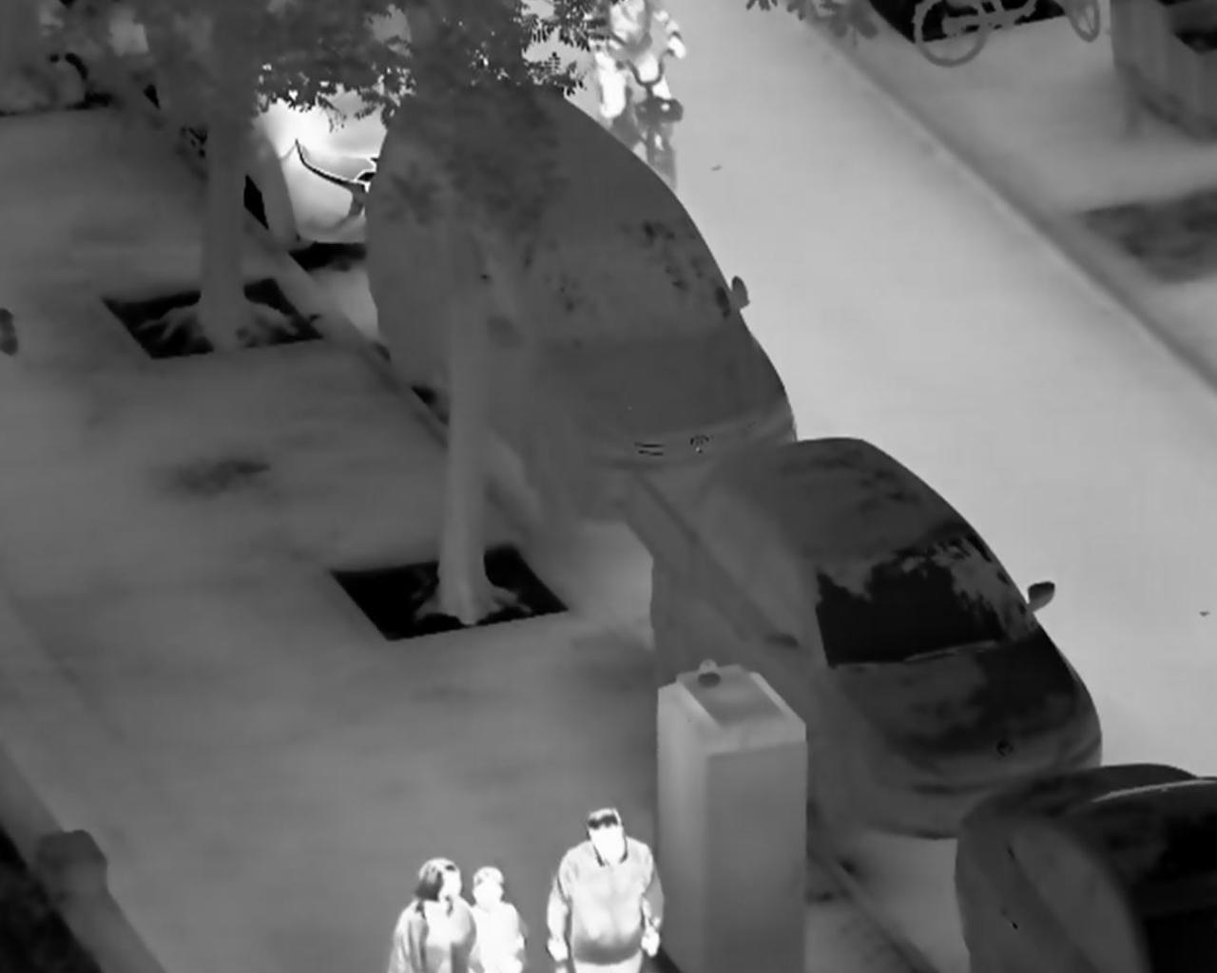person: (548, 807, 665, 973), (387, 857, 483, 973), (459, 867, 528, 973)
